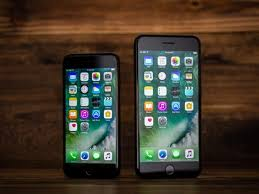iphone: (132, 30, 205, 181), (60, 50, 121, 179)
iphone7: (131, 31, 204, 182), (58, 48, 119, 177)
